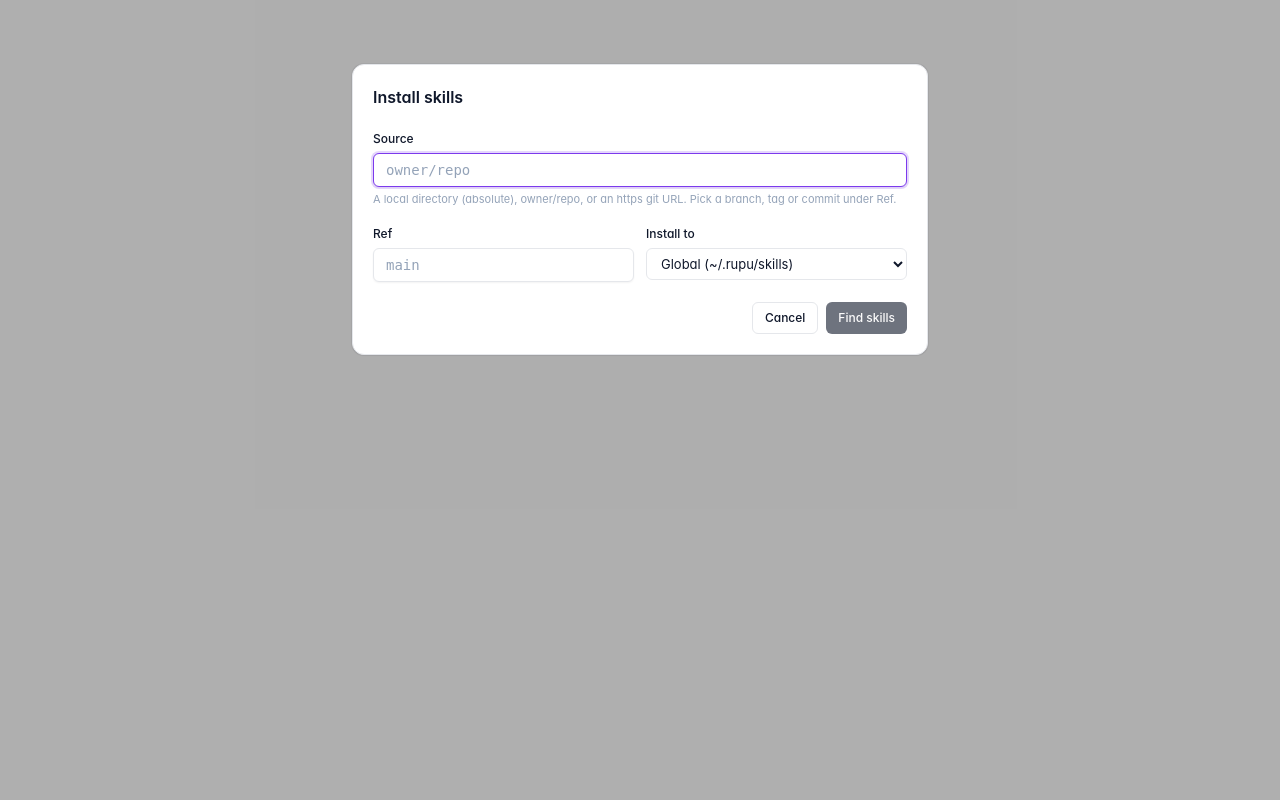
Test: InstallSkillsDialog › backs out of a replace without installing anything
This screenshot has width=1280, height=800.
In the field labelled "Source": coordinates (640, 170) [373, 153, 907, 187], type "example/skills"
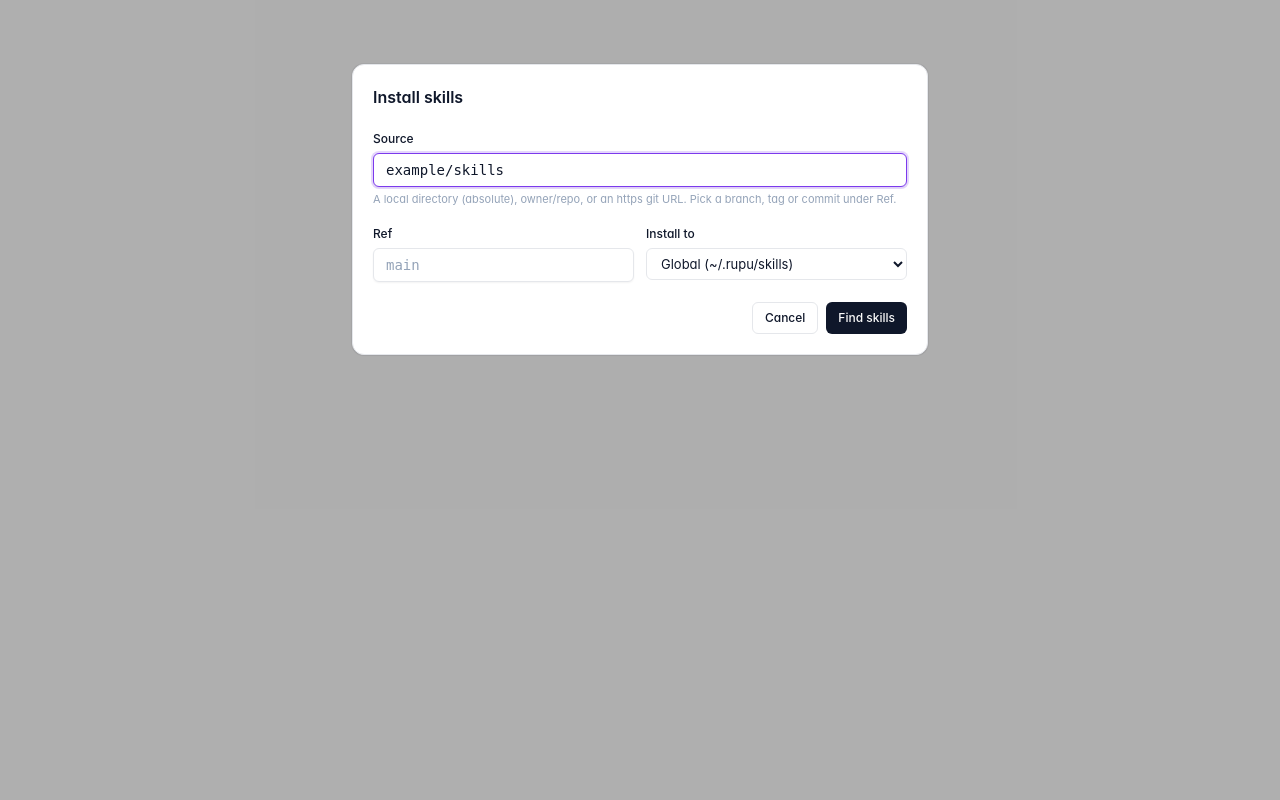
Click the button "Find skills": coordinates (867, 318) [826, 302, 907, 334]
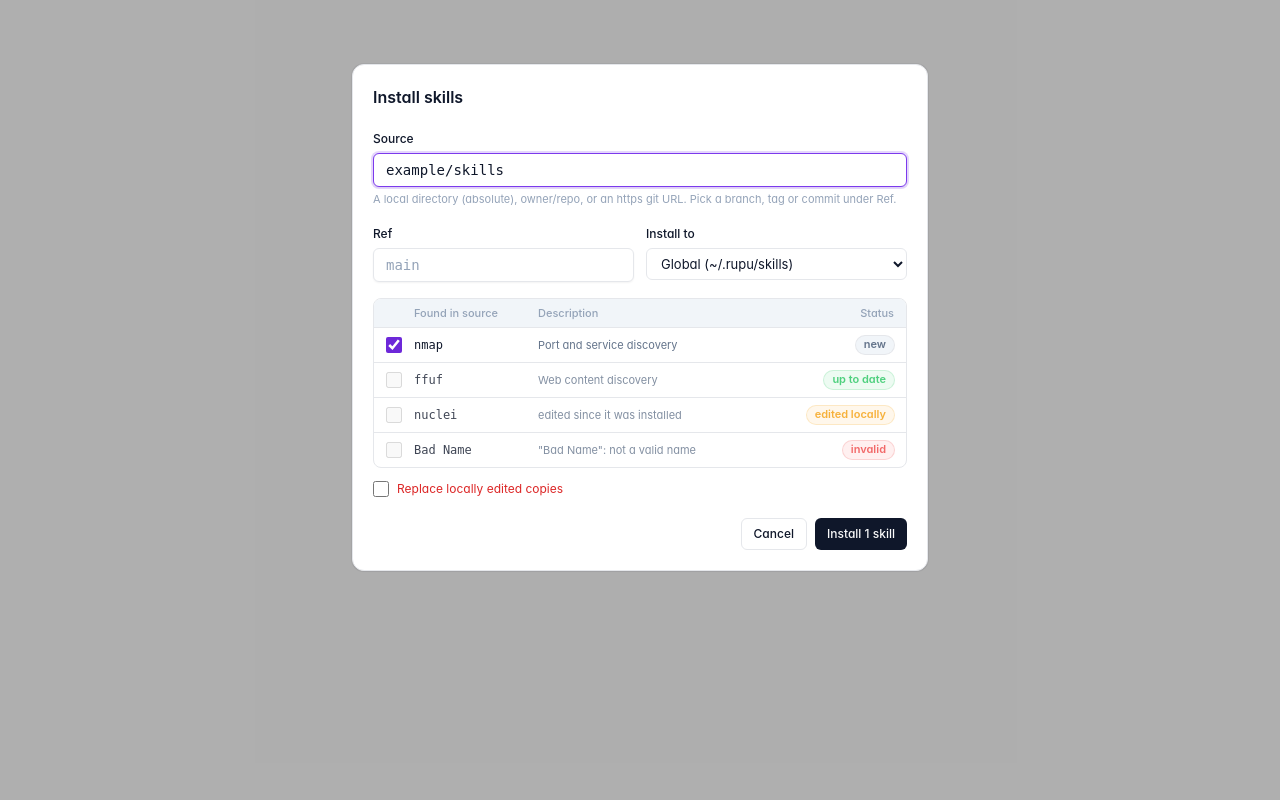
Click the checkbox labelled "Replace locally edited copies": coordinates (381, 489) [373, 481, 389, 497]
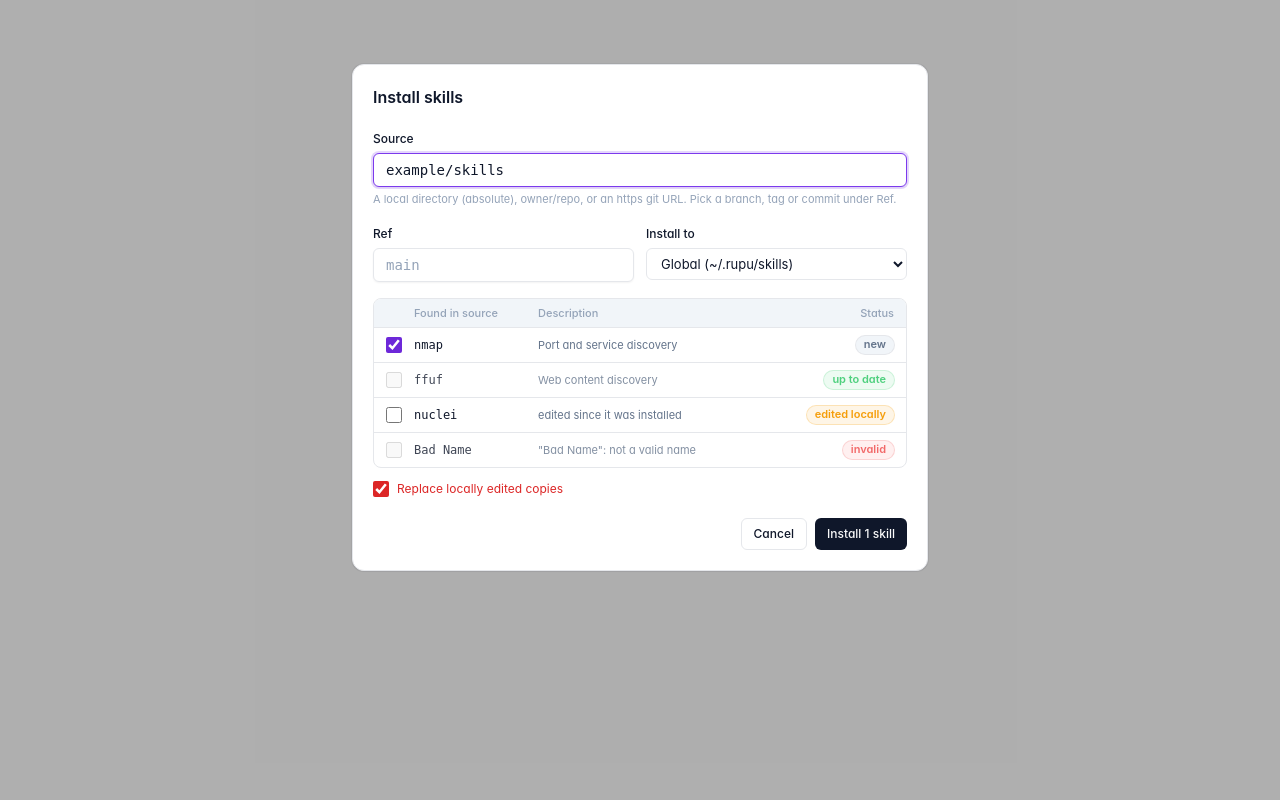
Click the checkbox labelled "nuclei": coordinates (394, 415) [386, 407, 402, 423]
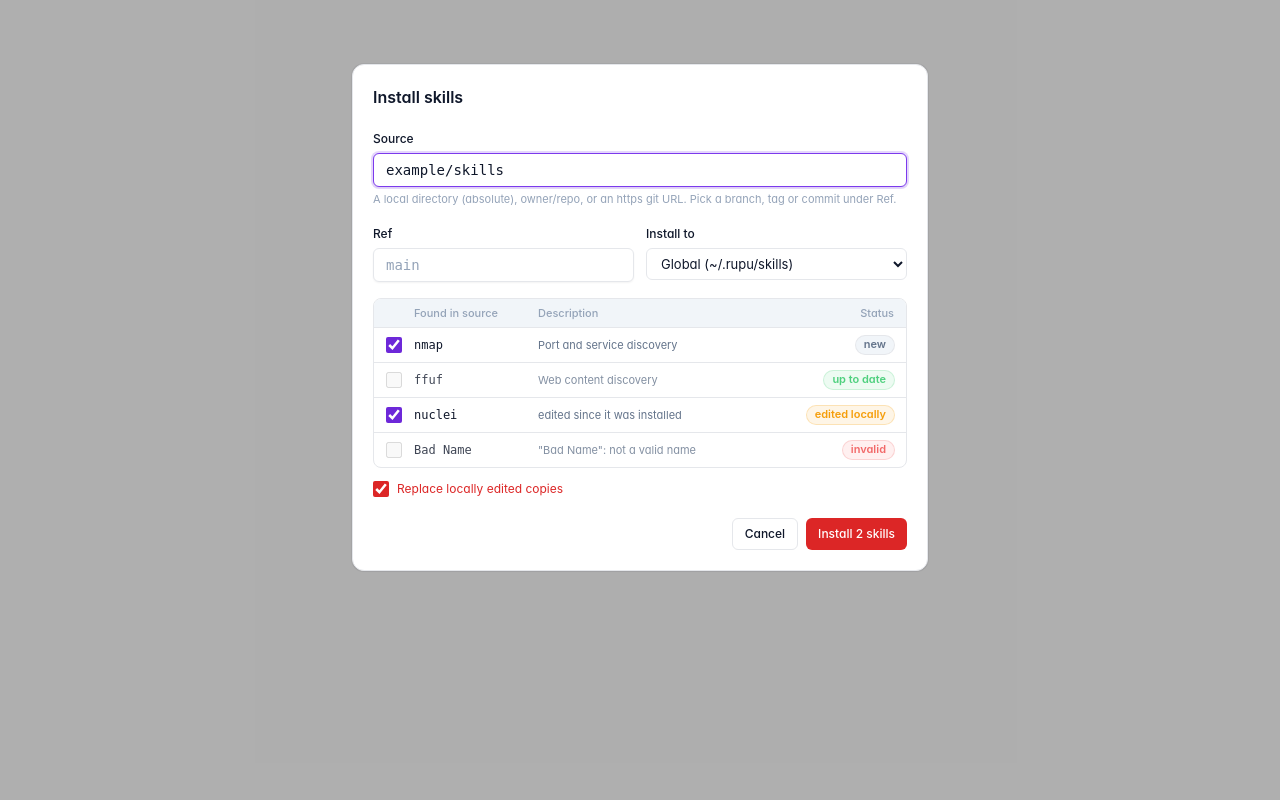
Click the button "Install 2 skills": coordinates (857, 534) [806, 518, 907, 550]
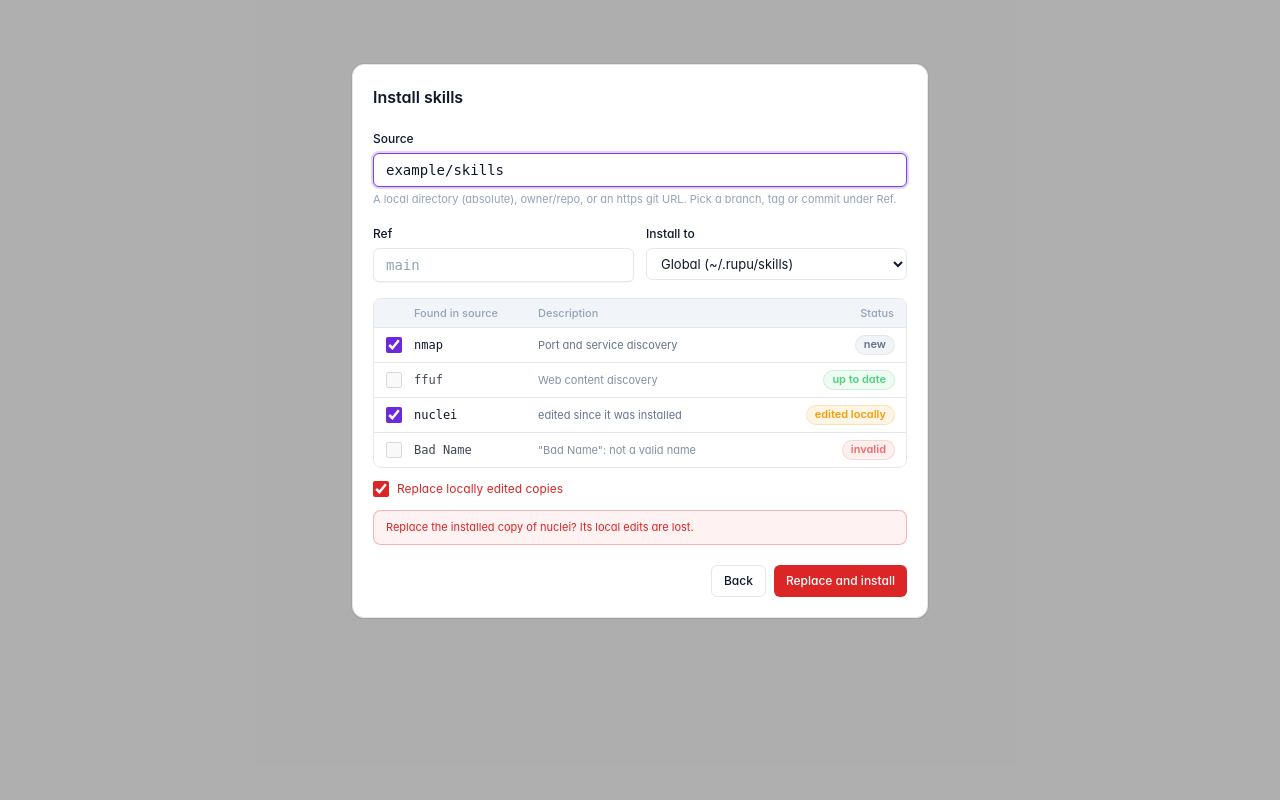
Click the button "Back": coordinates (738, 580) [711, 564, 766, 596]
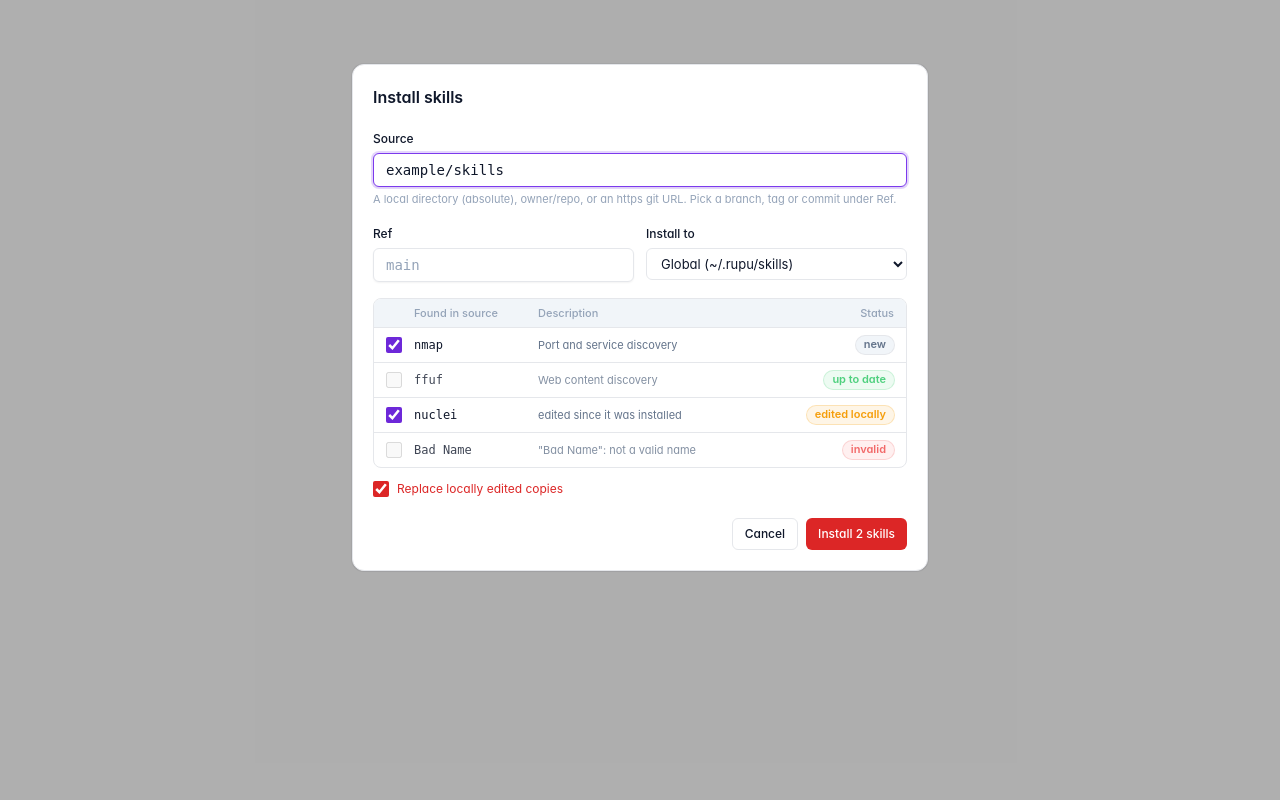
Result: the text "Its local edits are lost" is gone
